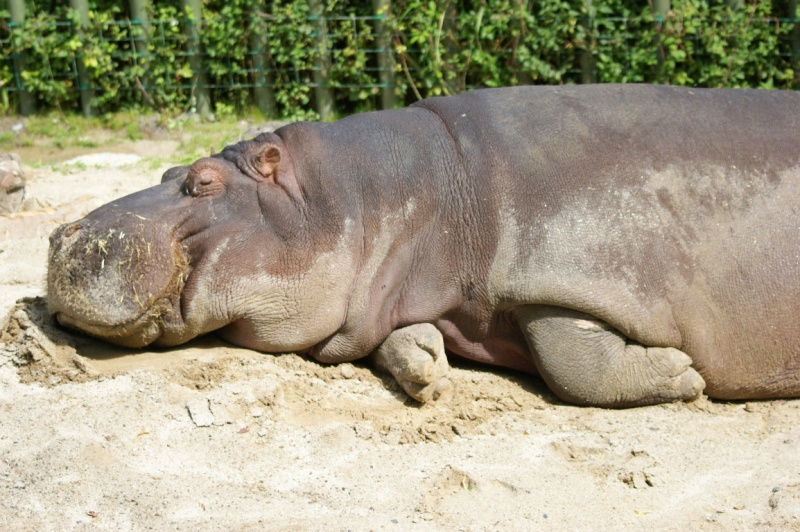hipopotamo: (47, 79, 800, 408)
